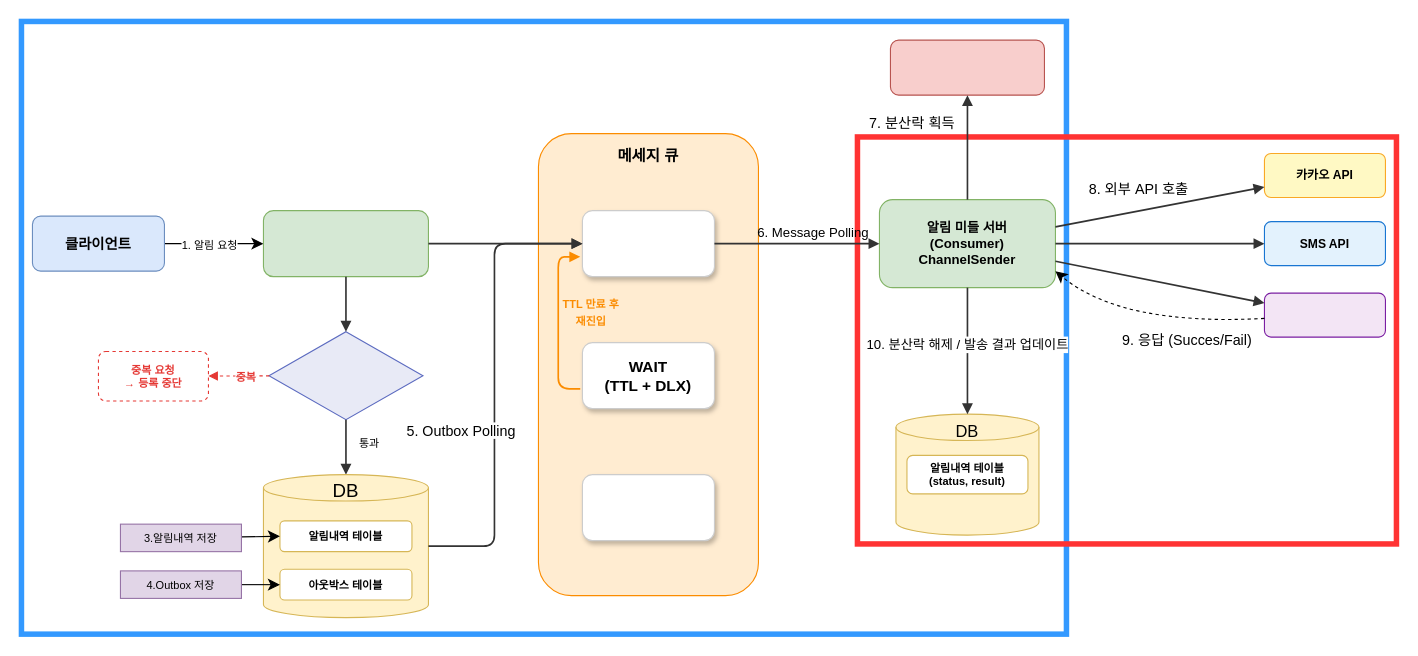
The diagram is 1418 pixels wide and 656 high, and some of its shapes have lost their labels. Here are the shapes that lost their labels. From the top down, the centre of each, then its label:
At (x=966, y=67): "Redis (distributed lock)".
At (x=345, y=243): "알림 미들 서버 (Producer)".
At (x=649, y=244): "WORK".
At (x=1324, y=314): "Email API".
At (x=345, y=375): "2. 멱등성 체크 (Idempotency)".
At (x=649, y=508): "DLQ (DEAD)".
